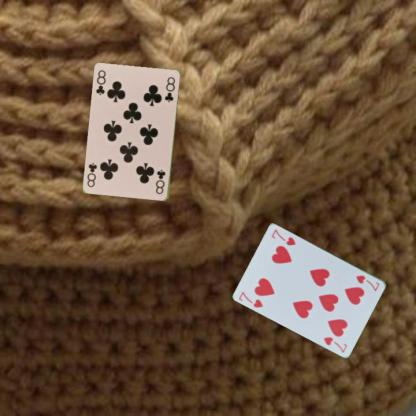7h: (236, 289, 264, 309), (353, 272, 380, 292)
8c: (93, 67, 107, 96), (153, 167, 167, 195)
